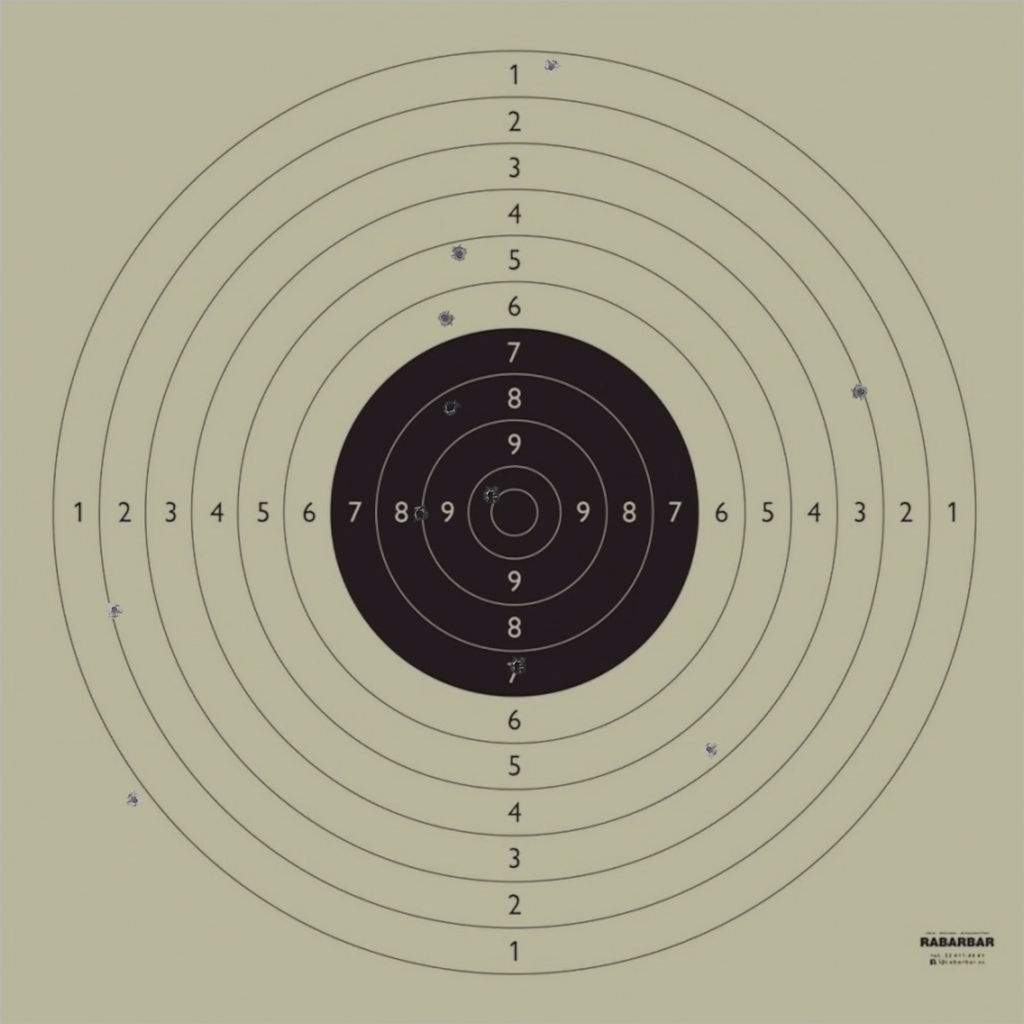0 punktow: (125, 791, 143, 809)
1 punkt: (542, 58, 561, 76)
10 punktow: (482, 485, 500, 504)
2 punkty: (105, 601, 124, 619)
3 punkty: (851, 383, 869, 401)
4 punkty: (701, 740, 719, 759)
5 punktow: (450, 245, 468, 263)
6 punktow: (436, 309, 455, 327)
7 punktow: (508, 656, 527, 674)
8 punktow: (442, 398, 460, 417)
9 punktow: (411, 504, 429, 523)
